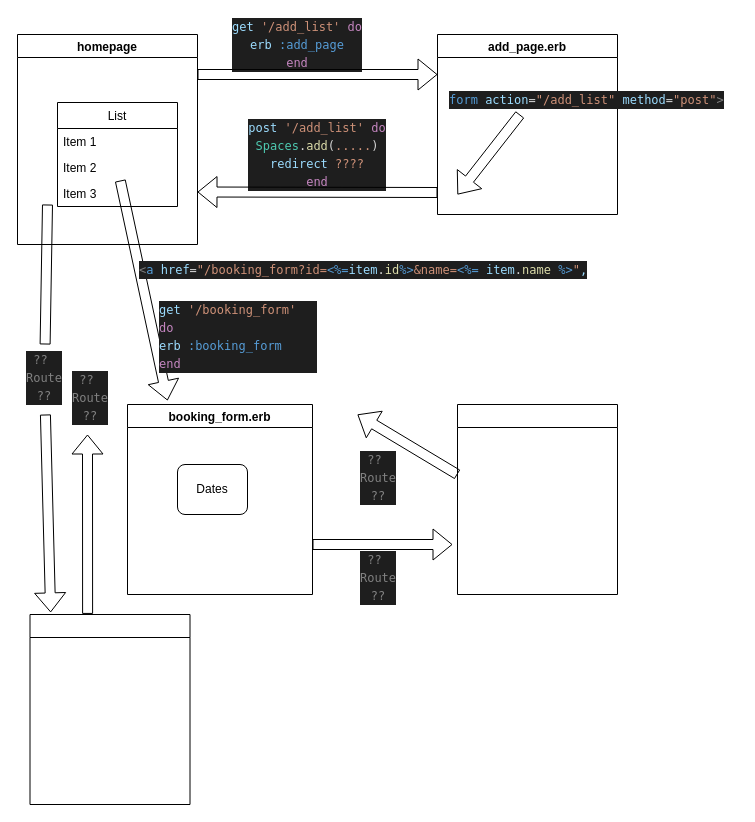
This 755x822 diagram has some shape labels left out. The shapes that lost their labels are listed below. From the top down, each one's centre as x and y in pixels, then its label:
At [537,499]: "booking.erb".
At [109,709]: "login_page.erb".
